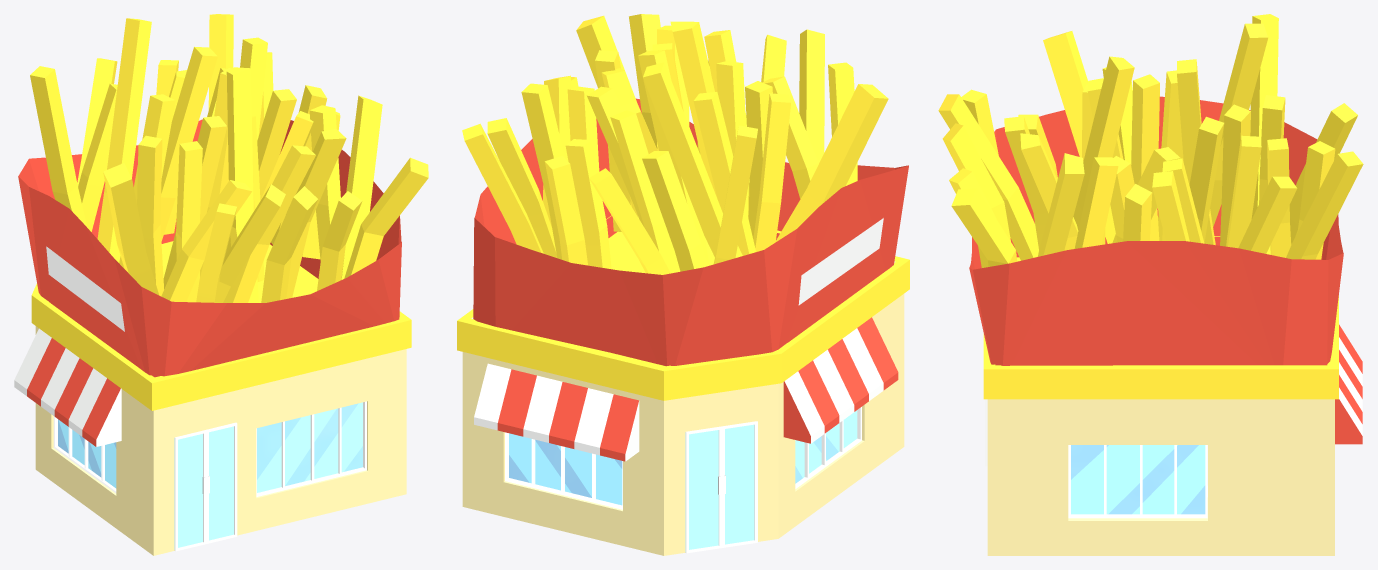
Rendered from snack.003.glb.
The picture shows the model from 3 angles, left to right: view 1: azimuth 30°, elevation 25°; view 2: azimuth 150°, elevation 25°; view 3: azimuth 270°, elevation 25°; orthographic projection. The views are drawn at different scales.
Visible parts, largest first — view 1: snack.003(Clone); view 2: snack.003(Clone); view 3: snack.003(Clone).
Part boxes in pixels (<box>): snack.003(Clone): <box>14,14,428,555</box>; snack.003(Clone): <box>457,14,909,555</box>; snack.003(Clone): <box>938,14,1363,555</box>.
Size of the model in its own units: 5.85 by 8.07 by 6.84.
Materials: 1 (1 with a texture image).
